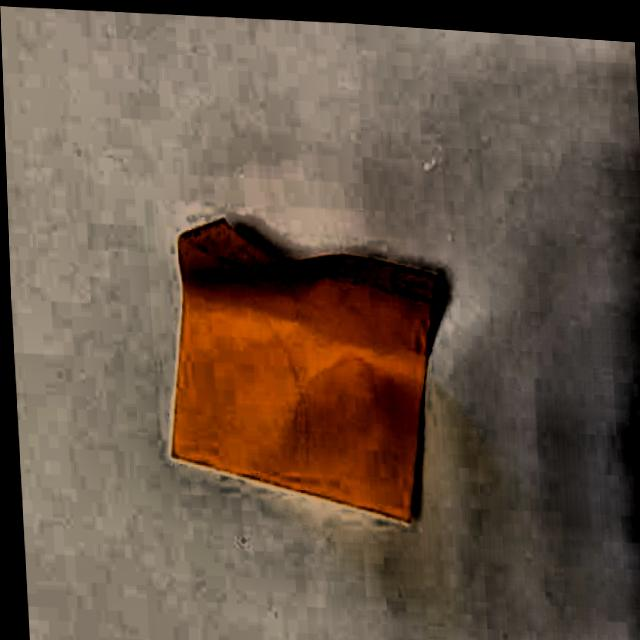Paper: (137, 189, 458, 533)
